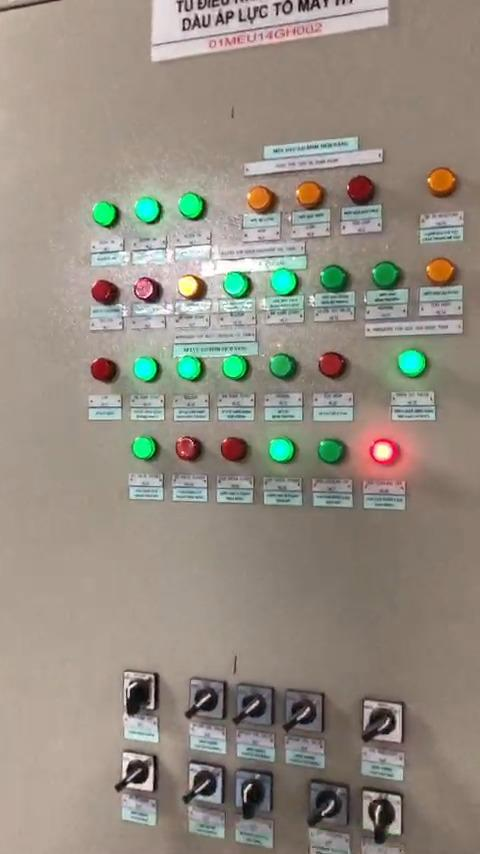led: (424, 165, 460, 200), (344, 169, 381, 203), (318, 435, 353, 470), (424, 256, 460, 290), (394, 346, 428, 379), (369, 438, 403, 469), (178, 195, 209, 228), (218, 435, 251, 466), (320, 264, 351, 296), (223, 267, 255, 298), (318, 349, 349, 381), (294, 180, 328, 209), (267, 353, 298, 384), (222, 354, 253, 385), (270, 270, 304, 298), (87, 198, 117, 229), (373, 259, 404, 288), (132, 277, 163, 306), (130, 436, 158, 468), (244, 184, 273, 213), (133, 194, 162, 223), (175, 434, 206, 461), (90, 358, 119, 386), (177, 274, 204, 304), (269, 436, 296, 466), (90, 278, 120, 304), (177, 355, 204, 382), (135, 355, 160, 384)
twist: (363, 700, 408, 749), (362, 790, 405, 840), (118, 669, 158, 720), (285, 691, 323, 734), (188, 679, 225, 723), (115, 750, 154, 791), (237, 766, 271, 812), (309, 782, 345, 824), (235, 685, 271, 724), (187, 762, 219, 802)
